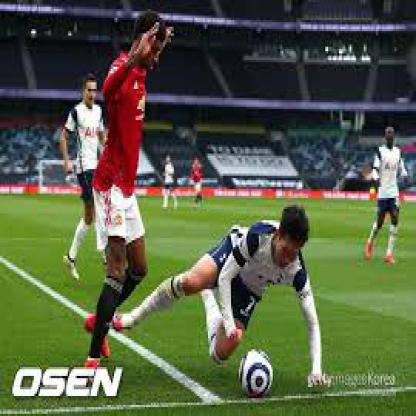Fall_Down: (112, 199, 338, 391)
